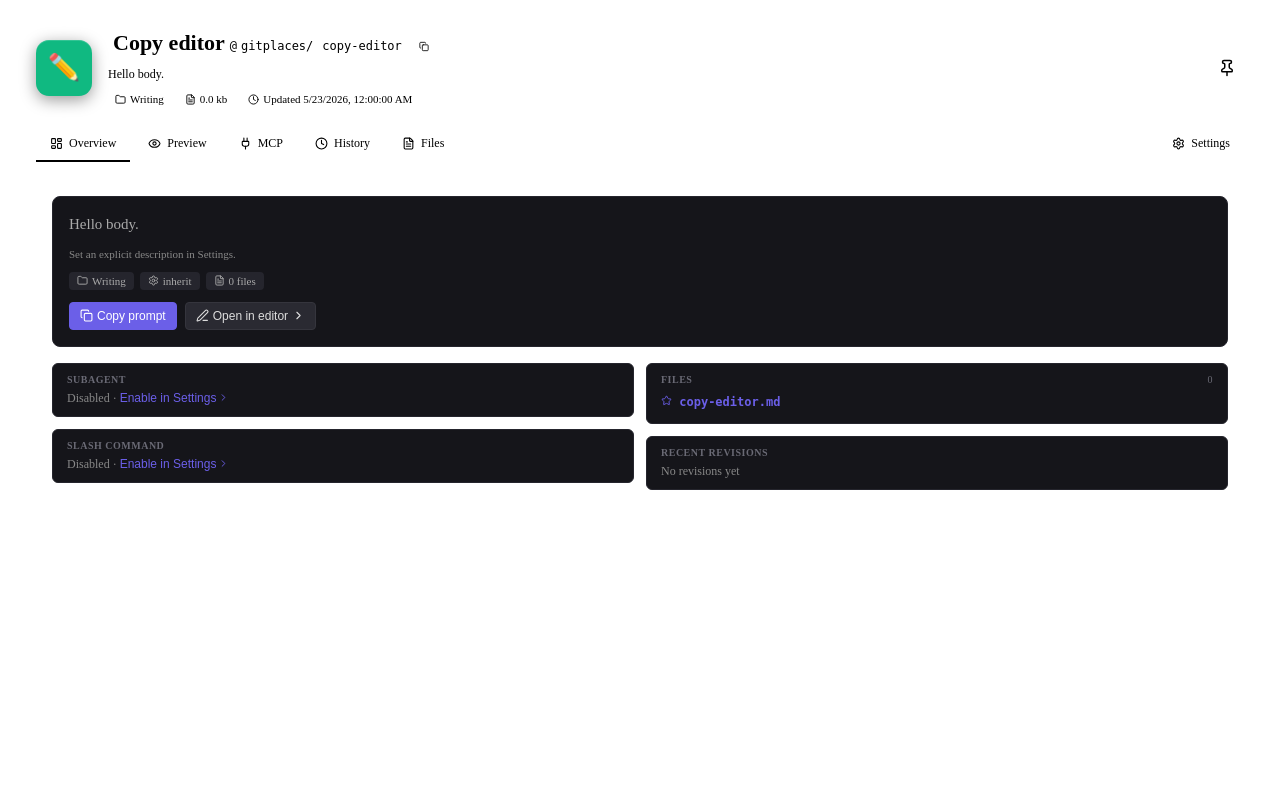
AgentDetail — MCP tab › renders the resource URIs for the current agent
Expected: the heading "Copy editor" is shown, [108, 28, 230, 58]
Click the tab "MCP".
click(261, 142)  # box [225, 123, 297, 162]
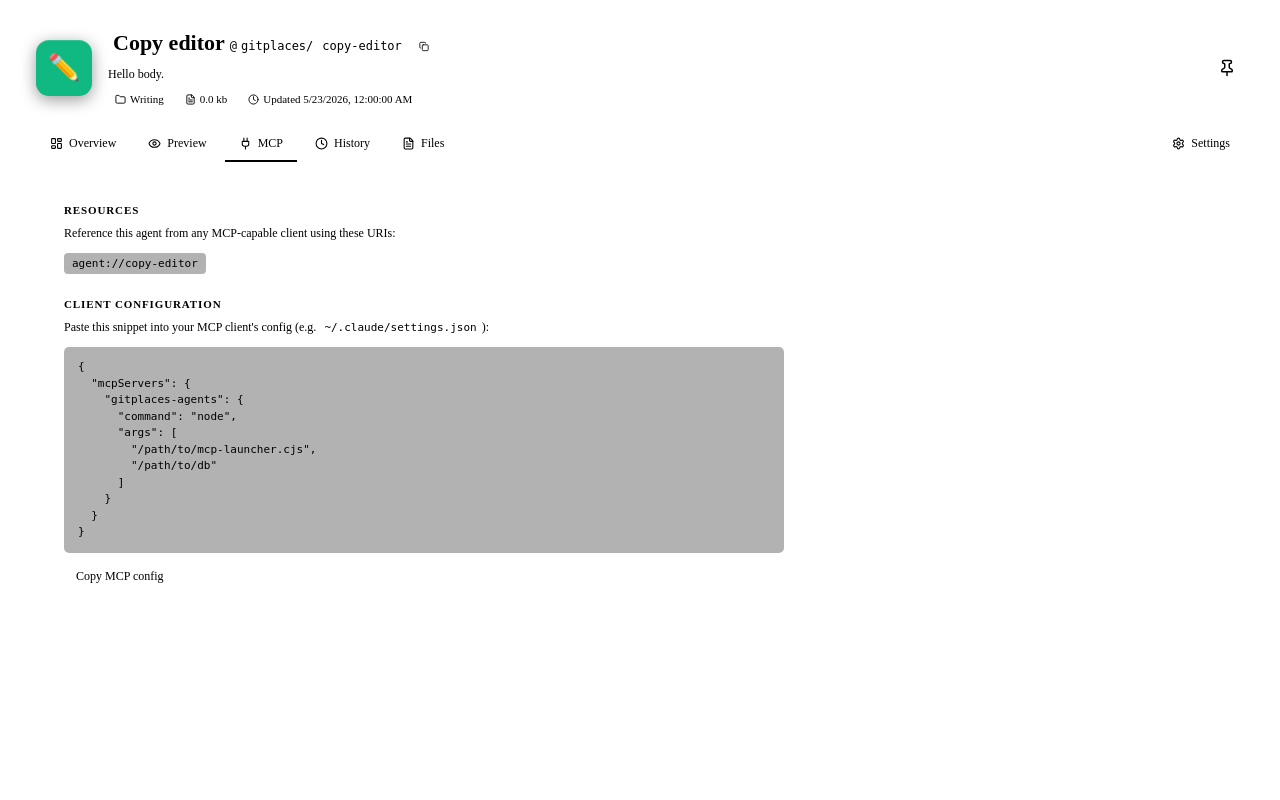
Expected: the text "agent://copy-editor" is shown, [64, 253, 206, 274]
